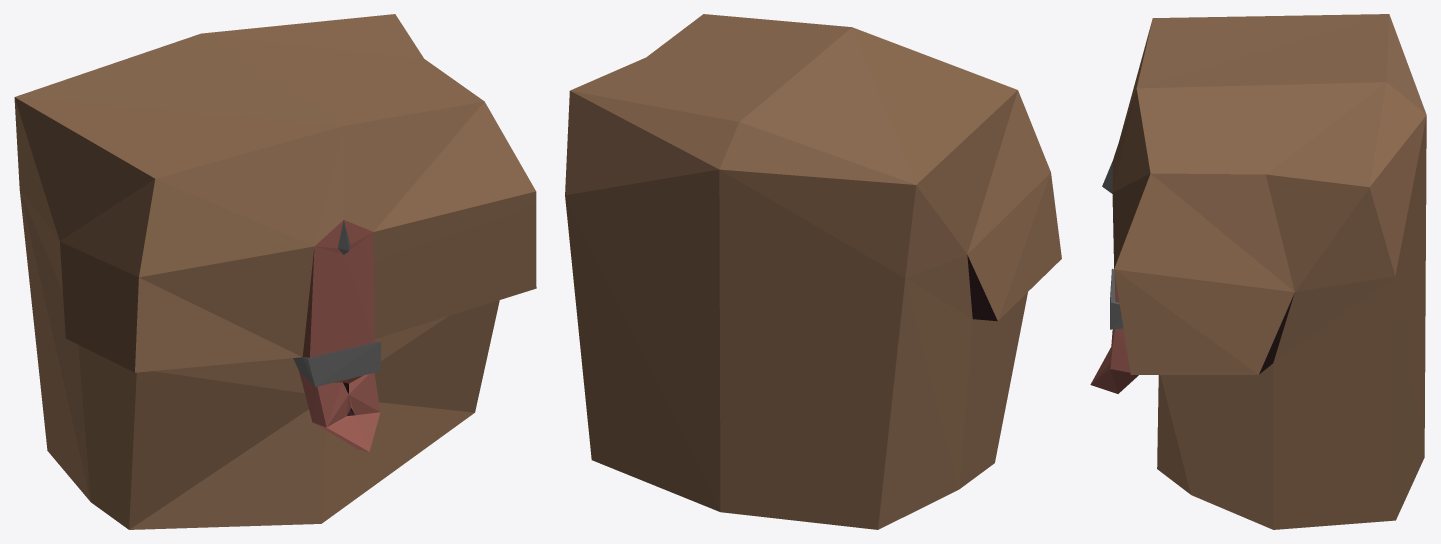
File: Backpack.fbx
3 renders of one model, left to right at view 1: azimuth 30°, elevation 25°; view 2: azimuth 150°, elevation 25°; view 3: azimuth 270°, elevation 25°, orthographic. The views are drawn at different scales.
Visible parts, largest first — view 1: Backpack; view 2: Backpack; view 3: Backpack.
Part boxes in pixels (<box>): Backpack: <box>14,14,536,529</box>; Backpack: <box>565,14,1061,529</box>; Backpack: <box>1090,14,1426,529</box>.
Size of the model in its own units: 42.7 by 41.02 by 32.1.
